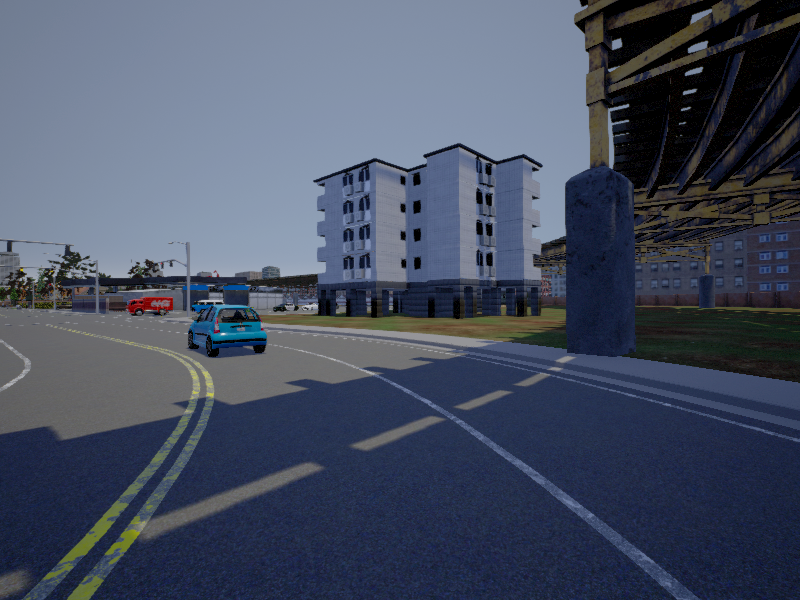Benign: (186, 307, 269, 356), (126, 297, 177, 318), (192, 301, 225, 314), (276, 302, 298, 311)
